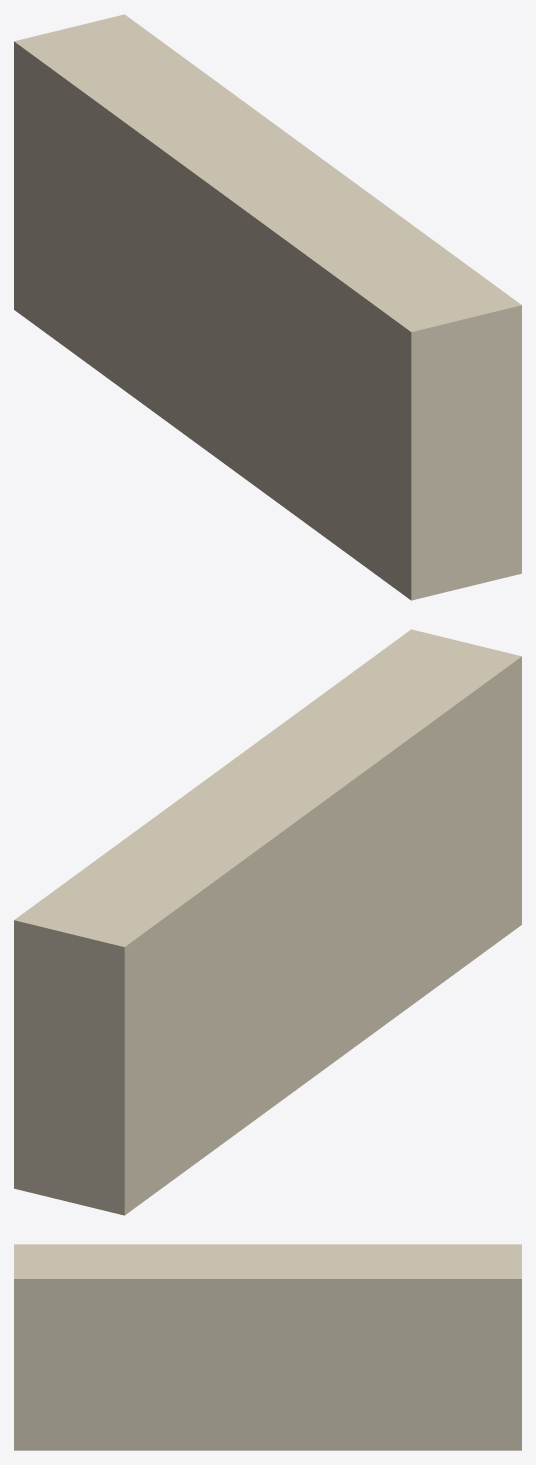
3 views of the same model, one above another, from view 1: azimuth 30°, elevation 25°; view 2: azimuth 150°, elevation 25°; view 3: azimuth 270°, elevation 25° (orthographic). The views are drawn at different scales.
Parts seen in each view (by area): view 1: A-GF-WINDOW-007-SILL; view 2: A-GF-WINDOW-007-SILL; view 3: A-GF-WINDOW-007-SILL.
Part boxes in pixels (x1,y1,x2,y2): A-GF-WINDOW-007-SILL: (14, 14, 521, 600); A-GF-WINDOW-007-SILL: (14, 629, 521, 1215); A-GF-WINDOW-007-SILL: (14, 1244, 521, 1450).
Size of the model in its own units: 0.3538 by 0.82 by 2.2.
